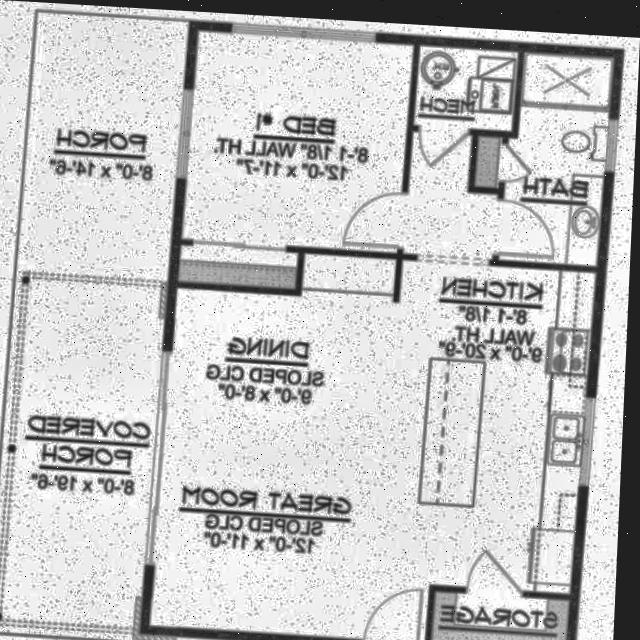room: (154, 243, 597, 640), (183, 30, 413, 253), (470, 49, 615, 268), (406, 132, 503, 261), (414, 45, 518, 132), (437, 592, 574, 640), (181, 246, 301, 290)
